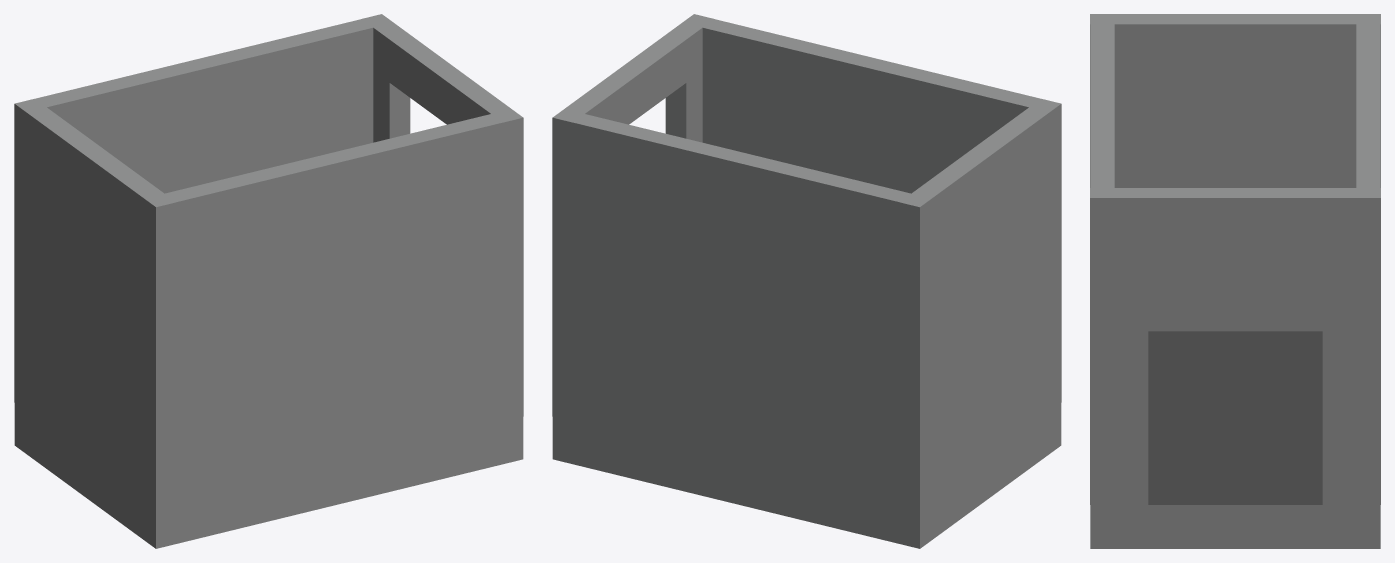
Rendered from OPEN CELL.fbx.
3 renders of one model, left to right at view 1: azimuth 30°, elevation 25°; view 2: azimuth 150°, elevation 25°; view 3: azimuth 270°, elevation 25°, orthographic. The views are drawn at different scales.
Visible parts, largest first — view 1: BLOC open; view 2: BLOC open; view 3: BLOC open.
Boxes of the visible parts, left/top/right/bottom form: BLOC open: left=14, top=14, right=523, bottom=548; BLOC open: left=552, top=14, right=1061, bottom=548; BLOC open: left=1090, top=14, right=1380, bottom=548.
Bounding box in the file's own units: 3 × 4.5 × 4.
